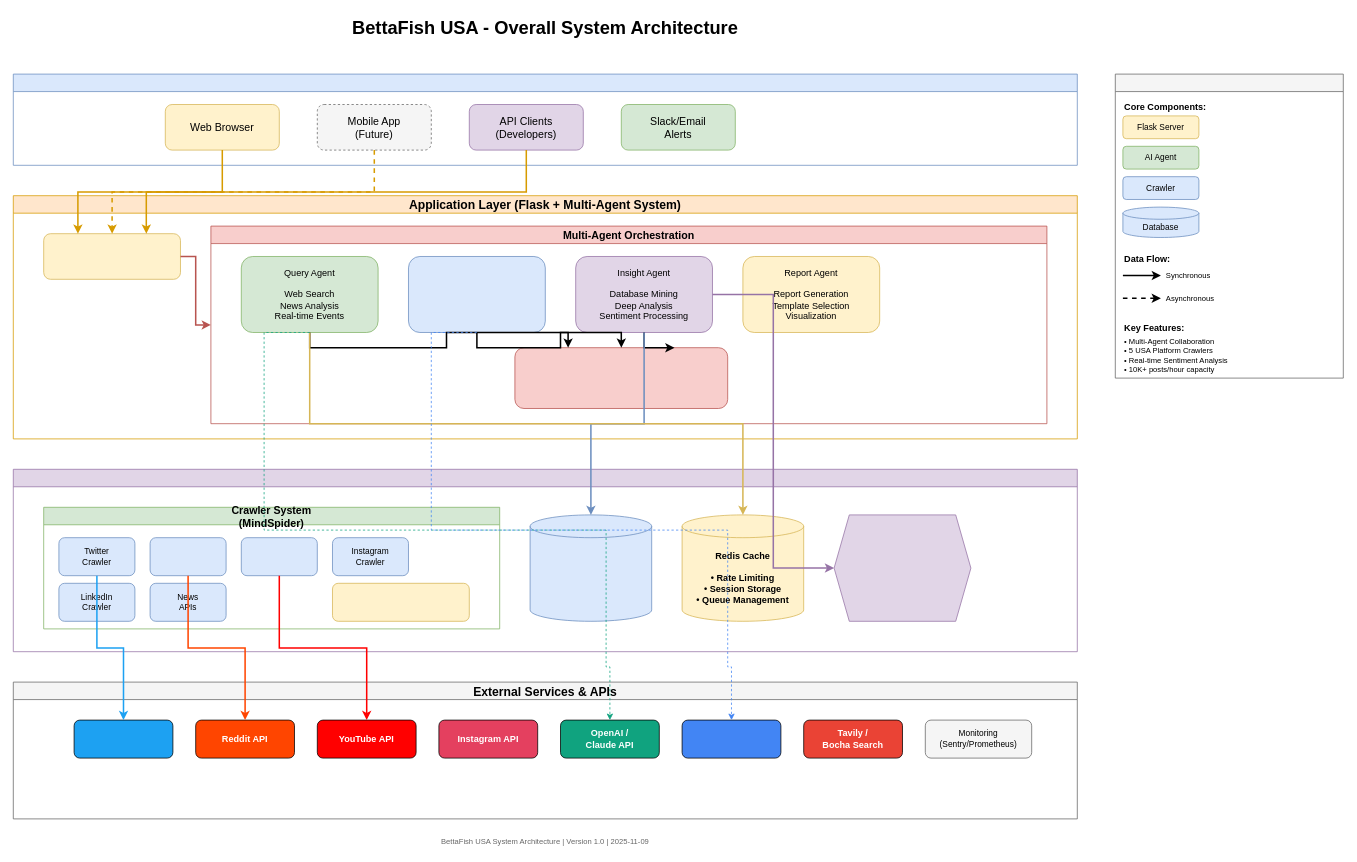
The diagram is 1357 pixels wide and 862 high, and some of its shapes have lost their labels. The box of each missing label's shape, as (x1, y1, x2, y2) in pixels:
Crawler Factory & Orchestrator: (332, 583, 469, 621)
Data Processing & Storage Layer: (13, 469, 1077, 652)
Flask Web Server: (43, 233, 180, 279)
Forum Engine Agent Coordination Debate Facilitation Consensus Building: (514, 347, 728, 408)
Gemini API: (681, 719, 781, 758)
Legend: (1115, 73, 1343, 378)
Media Agent Video Analysis Image Recognition Multimodal Content: (408, 256, 545, 332)
ML Models • Sentiment Analysis • Entity Recognition • Topic Extraction: (833, 514, 971, 621)
PostgreSQL Database • Posts & Comments • User Profiles • Metrics & Analytics: (529, 514, 652, 621)
Reddit Crawler: (149, 537, 226, 576)
Twitter API: (73, 719, 173, 758)
User Layer: (13, 73, 1077, 165)
YouTube Crawler: (241, 537, 317, 576)
